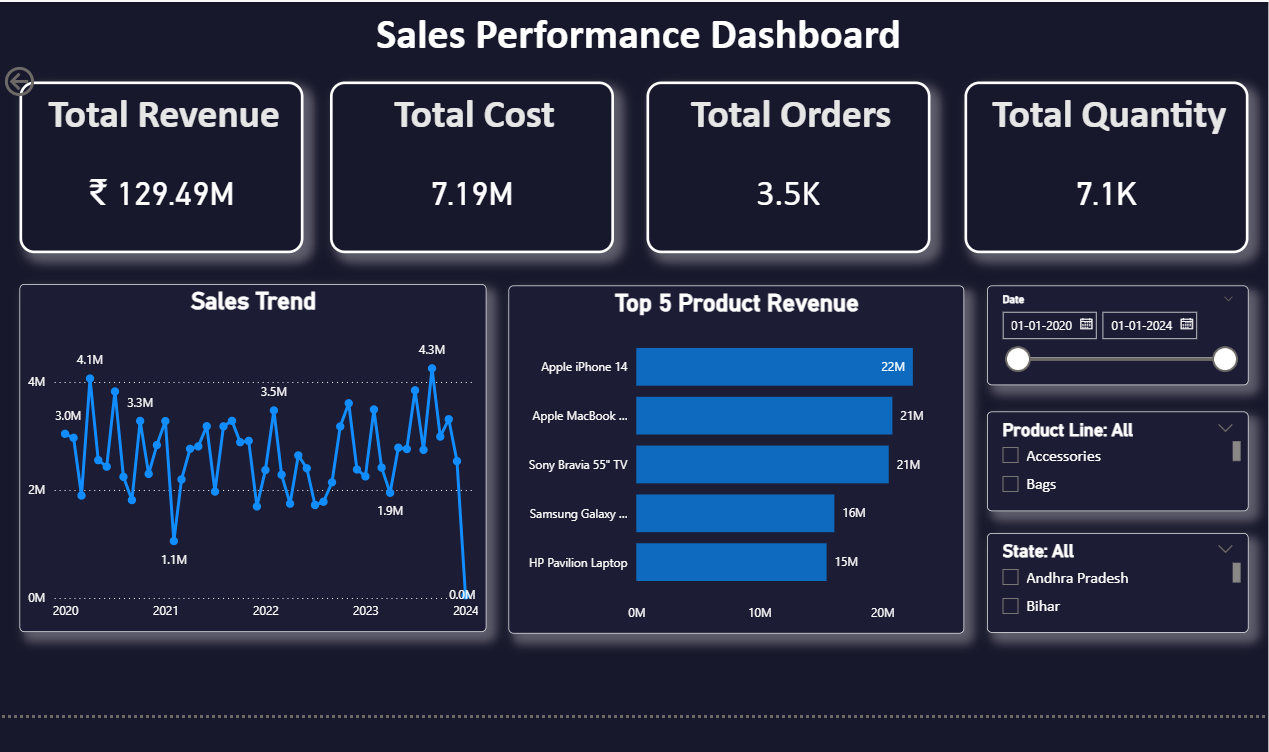

The page's visual inventory and layout, read from the dashboard file:
{"tool":"powerbi","page":{"name":"Section 1","canvas":[1280,720],"ordinal":0},"visuals":[{"type":"textbox","box":[9.7,0,1271.1,66.4],"z":0},{"type":"card","title":"Total Revenue","fields":{"Values":["Fact Table.Total Revenue"]},"box":[19.4,81,286.6,173.3],"z":1000},{"type":"card","title":"Total Cost","fields":{"Values":["Sum(Fact Table.Discount Value)"]},"box":[333.6,81,286.6,173.3],"z":2000},{"type":"actionButton","box":[0,61.1,100.4,39.3],"z":3000},{"type":"card","title":"Total Orders","fields":{"Values":["Fact Table.Total Orders"]},"box":[652.5,81,286.6,173.3],"z":4000},{"type":"card","title":"Total Quantity","fields":{"Values":["Fact Table.Total Quantity"]},"box":[973.2,81,286.6,173.3],"z":5000},{"type":"lineChart","title":"Sales Trend","fields":{"Category":["Fact Table.Date (dd/mm/yyyy).Variation.Date Hierarchy.Year","Fact Table.Date (dd/mm/yyyy).Variation.Date Hierarchy.Month","Fact Table.Date (dd/mm/yyyy).Variation.Date Hierarchy.Day"],"Y":["Fact Table.Total Revenue"]},"box":[19.4,285,471.2,351.4],"z":6000},{"type":"barChart","title":"Top 5 Product Revenue","fields":{"Category":["Dim Product.Product Name"],"Y":["Sum(Fact Table.Total Sales)"]},"box":[513.3,286.6,459.9,351.4],"z":7000},{"type":"slicer","fields":{"Values":["Fact Table.Date (dd/mm/yyyy)"]},"box":[995.8,286.6,263.9,100.4],"z":8000},{"type":"slicer","fields":{"Values":["Dim Product.Product Line"]},"box":[995.8,412.9,263.9,100.4],"z":9000},{"type":"slicer","fields":{"Values":["Dim Customers.State"]},"box":[995.8,536,263.9,100.4],"z":10000}]}

Visuals, with their boxes on the page's 1280x720 design canvas (x1, y1, x2, y2). These are canvas units, not pixel positions in the 1269x752 screenshot, which may show the page scaled, cropped or inside an application window:
textbox: (left=10, top=0, right=1281, bottom=66)
"Total Revenue" card: (left=19, top=81, right=306, bottom=254)
"Total Cost" card: (left=334, top=81, right=620, bottom=254)
actionButton: (left=0, top=61, right=100, bottom=100)
"Total Orders" card: (left=652, top=81, right=939, bottom=254)
"Total Quantity" card: (left=973, top=81, right=1260, bottom=254)
"Sales Trend" lineChart: (left=19, top=285, right=491, bottom=636)
"Top 5 Product Revenue" barChart: (left=513, top=287, right=973, bottom=638)
slicer - Fact Table.Date (dd/mm/yyyy): (left=996, top=287, right=1260, bottom=387)
slicer - Dim Product.Product Line: (left=996, top=413, right=1260, bottom=513)
slicer - Dim Customers.State: (left=996, top=536, right=1260, bottom=636)
